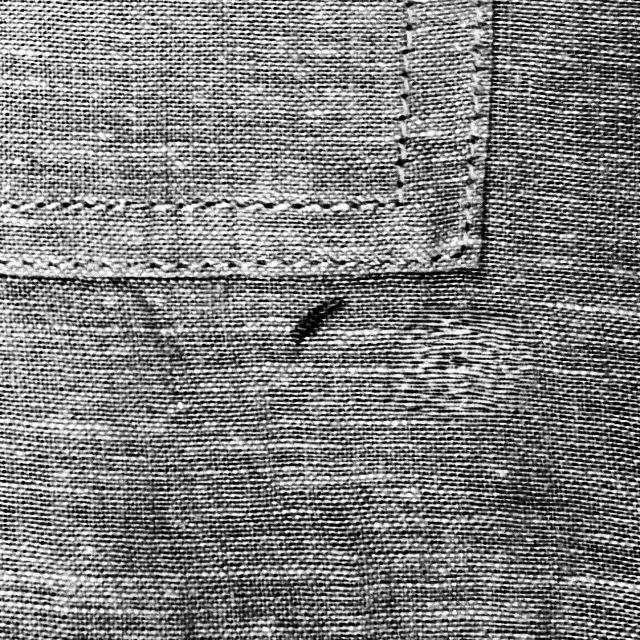Foreign_yarn: (282, 288, 362, 356)
